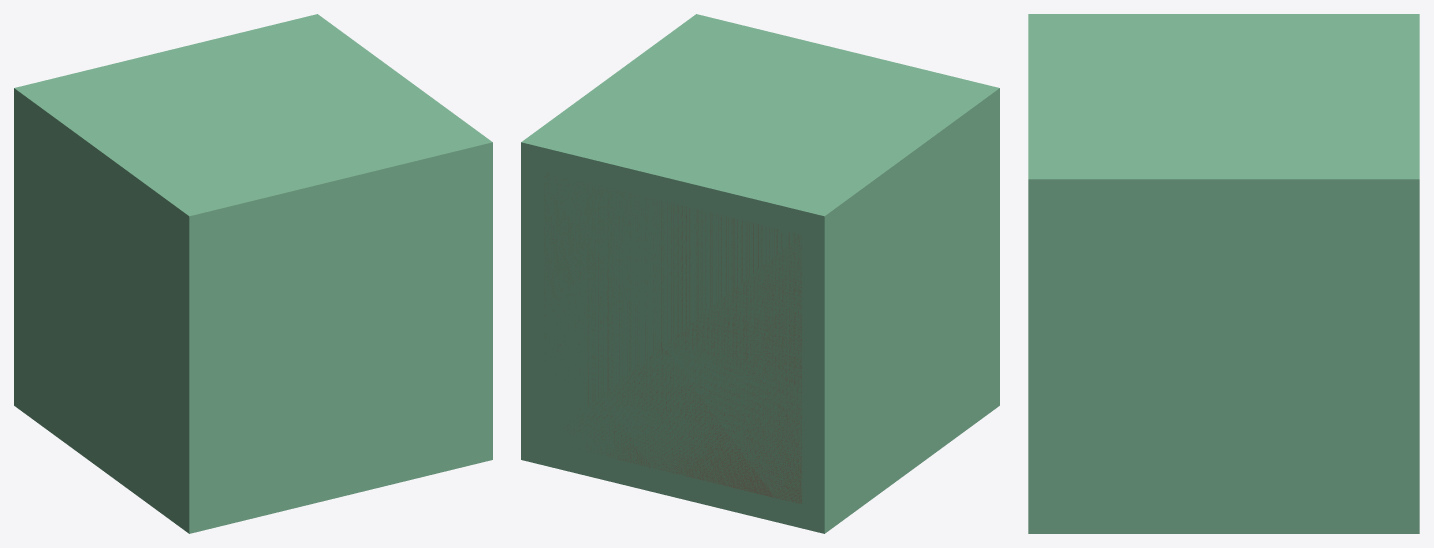
The model's file is 47_kelp.glb.
3 views of the same model, side by side, from view 1: azimuth 30°, elevation 25°; view 2: azimuth 150°, elevation 25°; view 3: azimuth 270°, elevation 25° (orthographic). The views are drawn at different scales.
Parts seen in each view (by area): view 1: Core; view 2: Core, Soil; view 3: Core.
Part boxes in pixels (x1,y1,x2,y2): Core: [14, 14, 492, 533]; Core: [521, 14, 999, 533]; Soil: [544, 173, 801, 503]; Core: [1028, 14, 1419, 533].
Size of the model in its own units: 1 by 1 by 1.
